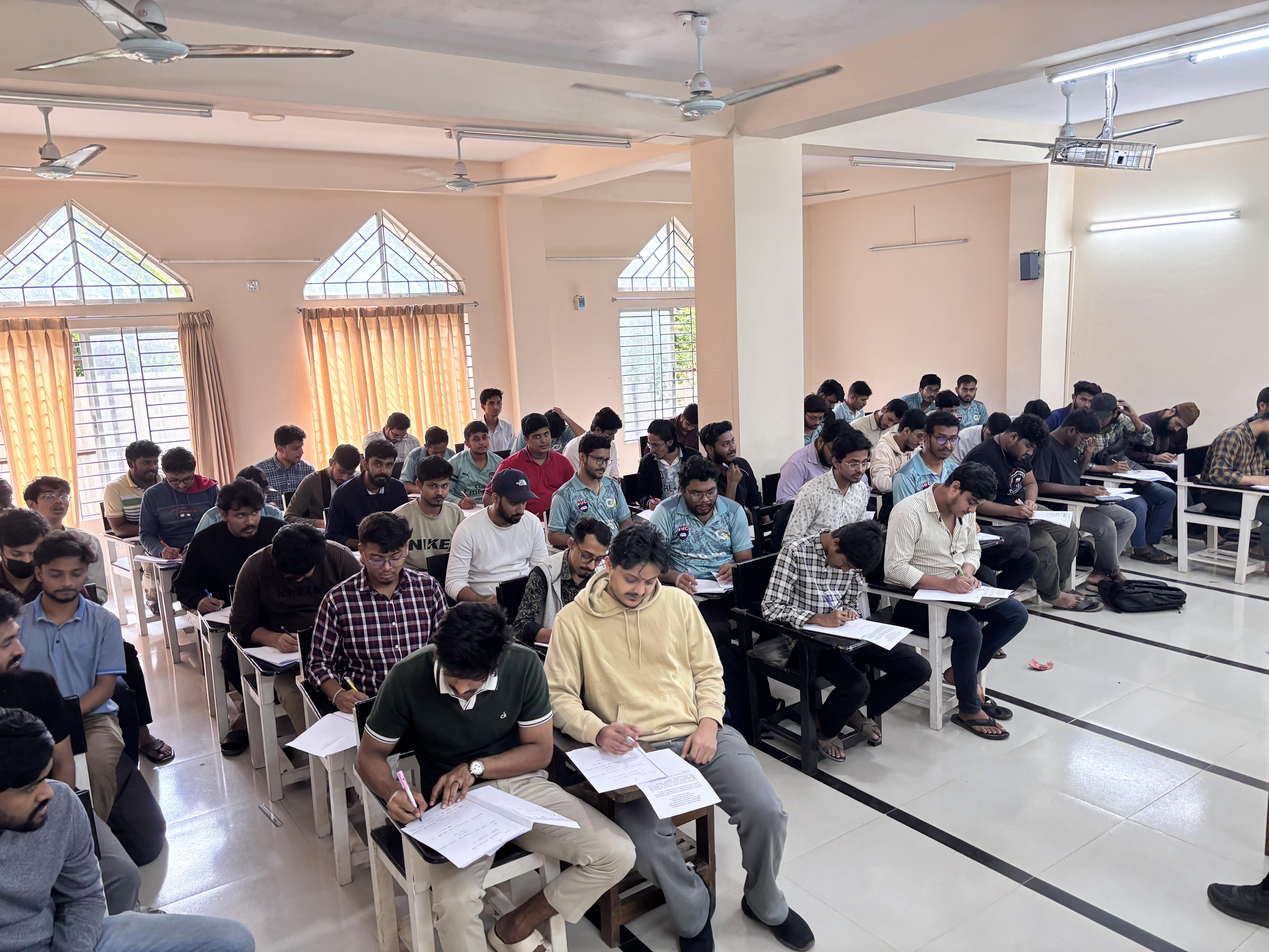copying: (783, 434, 910, 540), (458, 463, 550, 603), (624, 408, 695, 504), (255, 419, 322, 514)
hidden_communication: (1080, 391, 1143, 494)
no_cheating: (0, 699, 181, 952), (402, 603, 555, 887), (588, 526, 711, 810), (761, 512, 909, 702), (330, 510, 430, 744), (900, 466, 1024, 636), (31, 538, 117, 736), (240, 524, 345, 683), (187, 481, 292, 633), (980, 411, 1075, 548), (664, 464, 752, 603), (545, 433, 642, 536), (399, 454, 470, 573), (150, 442, 215, 569), (902, 407, 980, 491), (683, 417, 770, 491), (344, 439, 404, 526), (1141, 398, 1204, 473), (451, 420, 504, 500), (304, 446, 360, 512), (365, 403, 423, 452), (955, 367, 994, 427), (472, 383, 517, 434), (862, 394, 912, 436), (804, 392, 826, 450)
side_talking: (117, 431, 171, 491), (908, 363, 944, 421)
